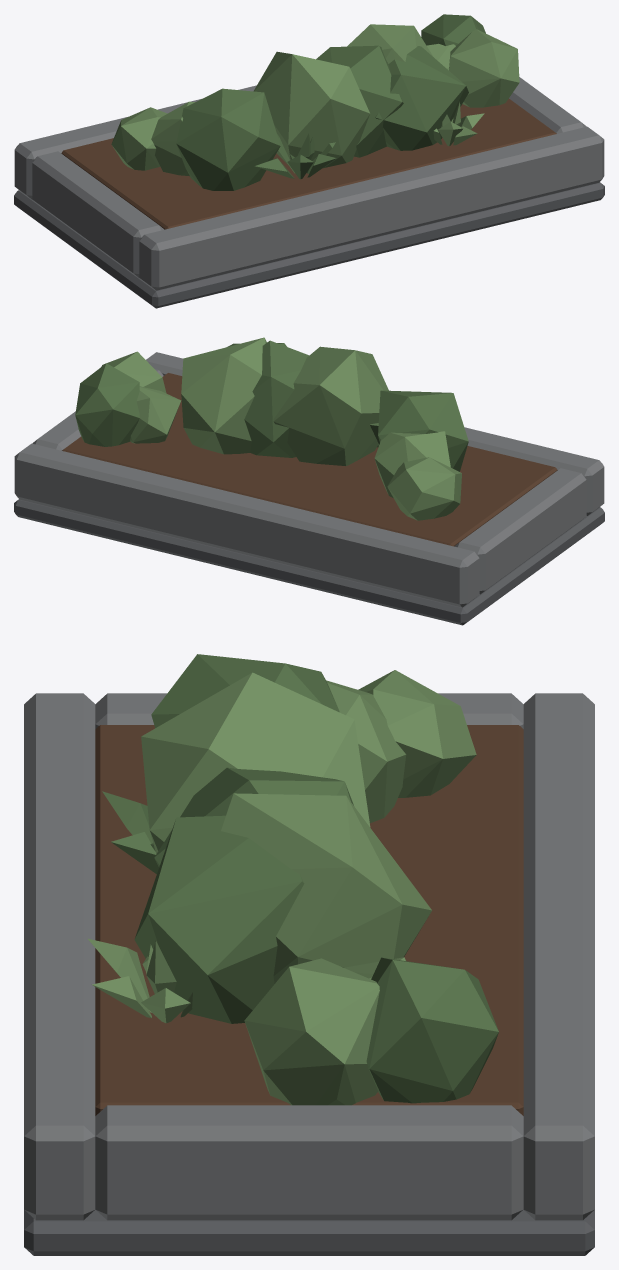
The model's file is Lobby7_ShrubBed.fbx.
3 views of the same model, one above another, from view 1: azimuth 30°, elevation 25°; view 2: azimuth 150°, elevation 25°; view 3: azimuth 270°, elevation 25° (orthographic). The views are drawn at different scales.
Parts seen in each view (by area): view 1: SlateStone, SageDark, Sage, Soil, SlateStoneDark; view 2: SlateStone, Sage, Soil, SageDark, SlateStoneDark; view 3: SlateStone, Sage, Soil, SageDark, SlateStoneDark.
Part boxes in pixels (x1,y1,x2,y2): SlateStone: (14, 77, 604, 290); SageDark: (176, 14, 485, 190); Sage: (111, 24, 519, 176); Soil: (61, 98, 556, 229); SlateStoneDark: (14, 182, 604, 308); SlateStone: (14, 352, 604, 607); Sage: (101, 337, 461, 520); Soil: (62, 373, 557, 546); SageDark: (75, 340, 468, 471); SlateStoneDark: (14, 499, 604, 625); SlateStone: (24, 693, 594, 1220); Sage: (88, 670, 476, 1105); Soil: (95, 725, 523, 1115); SageDark: (102, 654, 498, 1103); SlateStoneDark: (24, 1210, 594, 1255).
Bounding box in the file's own units: 4.4 × 1.56 × 2.4.
